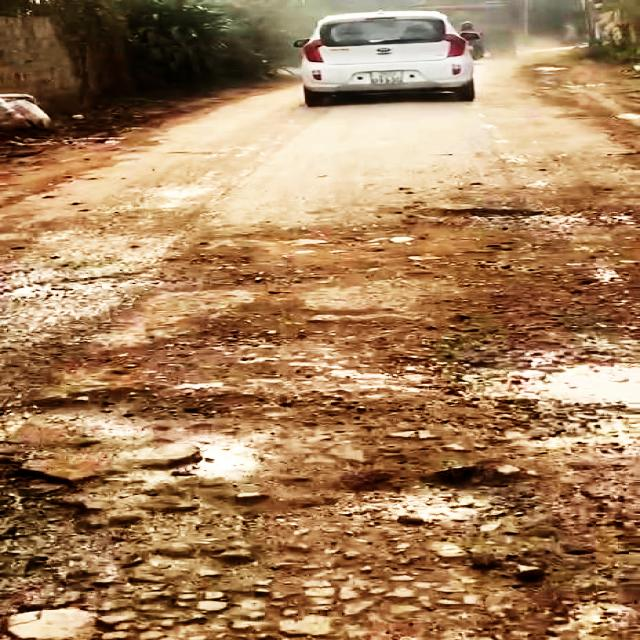pothole: (0, 383, 604, 640), (459, 334, 640, 486)
